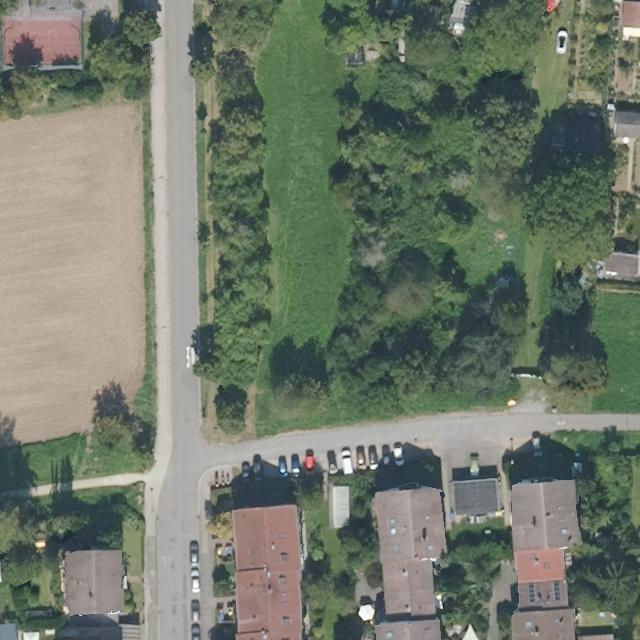PV: (552, 580, 563, 603), (528, 583, 537, 604)
